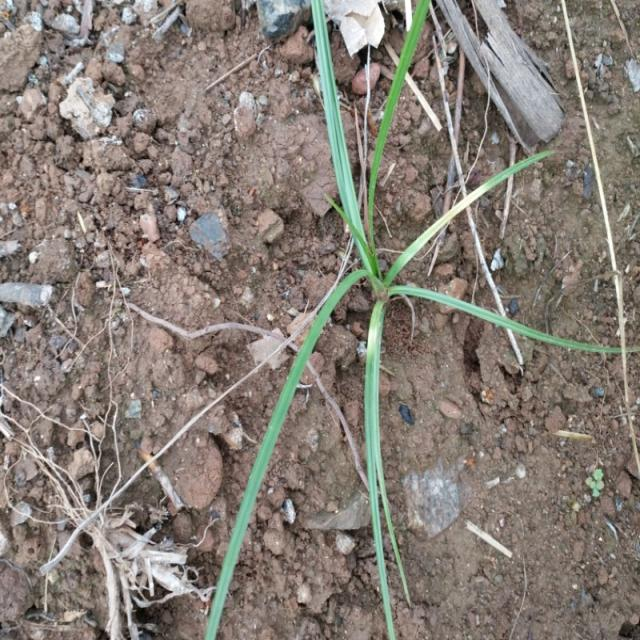sedge: (222, 22, 547, 612)
